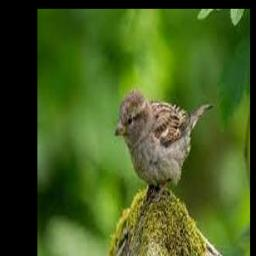Sparrow: (114, 87, 212, 201)
